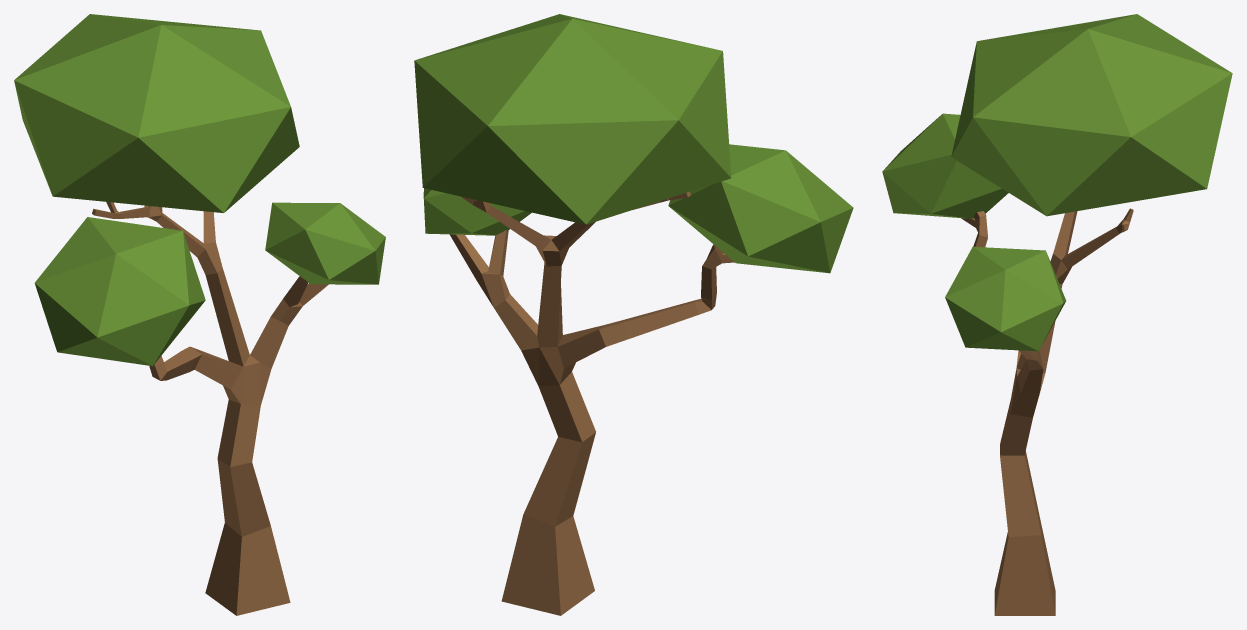
Rendered from tree_01.glb.
3 renders of one model, left to right at view 1: azimuth 30°, elevation 25°; view 2: azimuth 150°, elevation 25°; view 3: azimuth 270°, elevation 25°, orthographic. The views are drawn at different scales.
Parts seen in each view (by area): view 1: Tree_01; view 2: Tree_01; view 3: Tree_01.
Boxes of the visible parts, left/top/right/bottom form: Tree_01: left=14, top=14, right=385, bottom=615; Tree_01: left=414, top=14, right=853, bottom=615; Tree_01: left=882, top=14, right=1232, bottom=615.
Bounding box in the file's own units: 2.92 × 4.41 × 2.55.
Materials: 1 (1 with a texture image).
